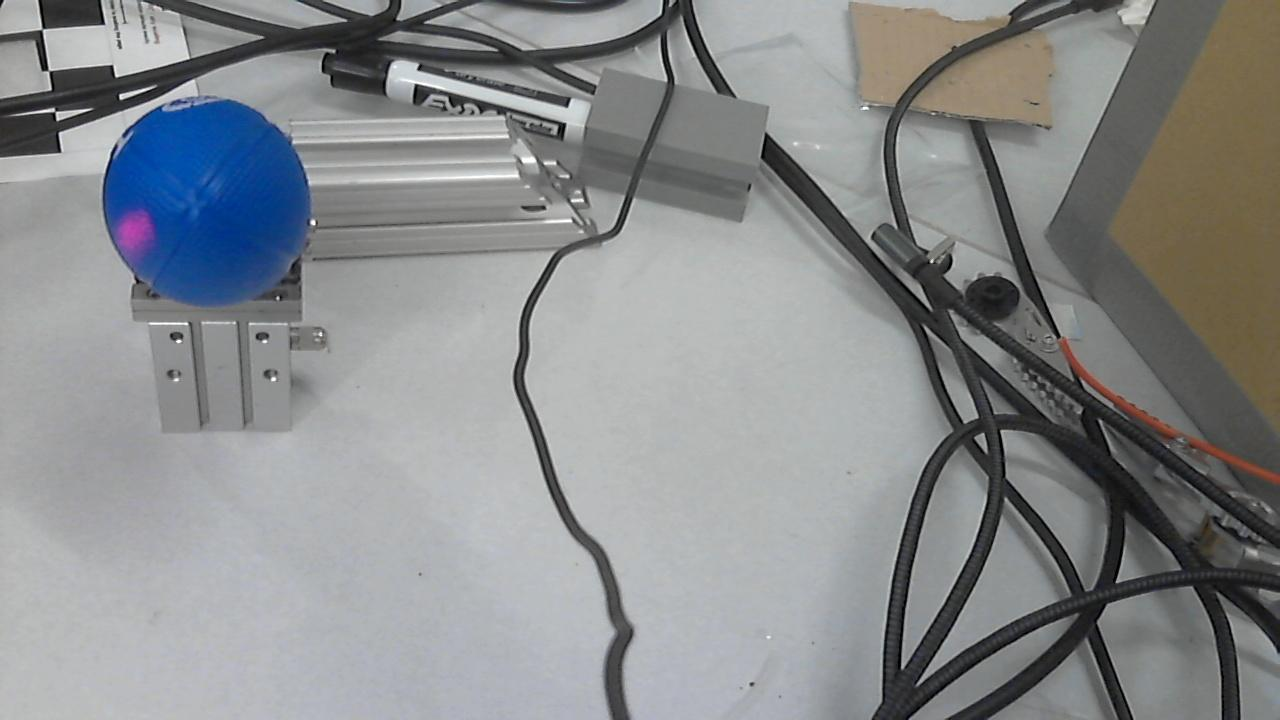Object toy football - Material foam - Color blue - Pdfname VT1ffZoLOnKv: (112, 193, 184, 275)
